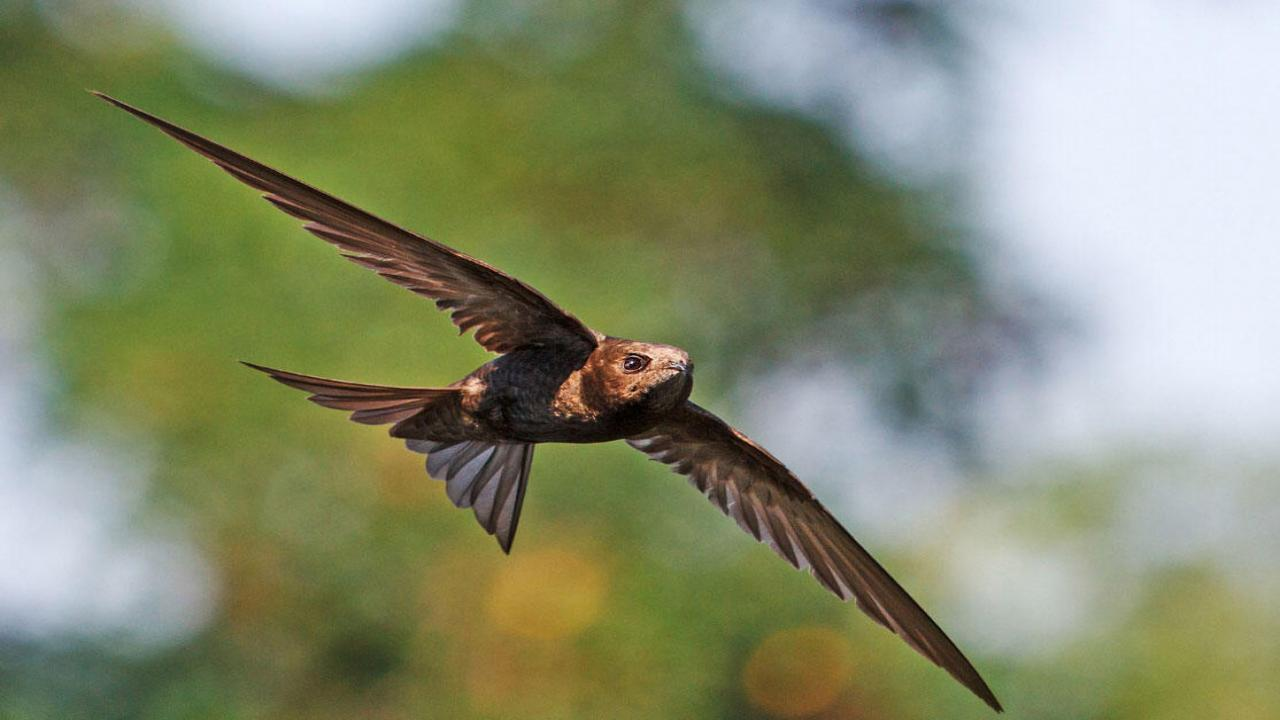Bird: (68, 74, 1018, 720)
